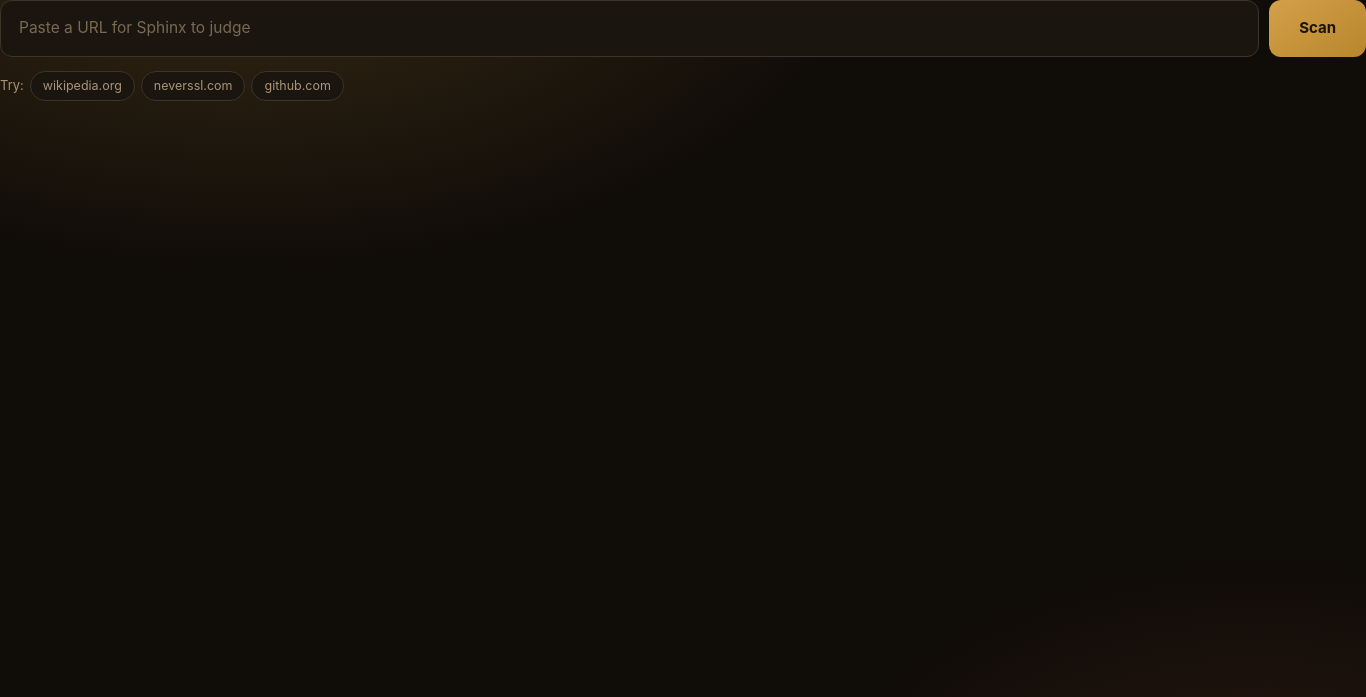
Scanner › keeps the previous result on screen when a later scan fails
Type "https://example.com" into the field named "URL to scan" at (630,28), box top-left (0, 0), bottom-right (1259, 57)
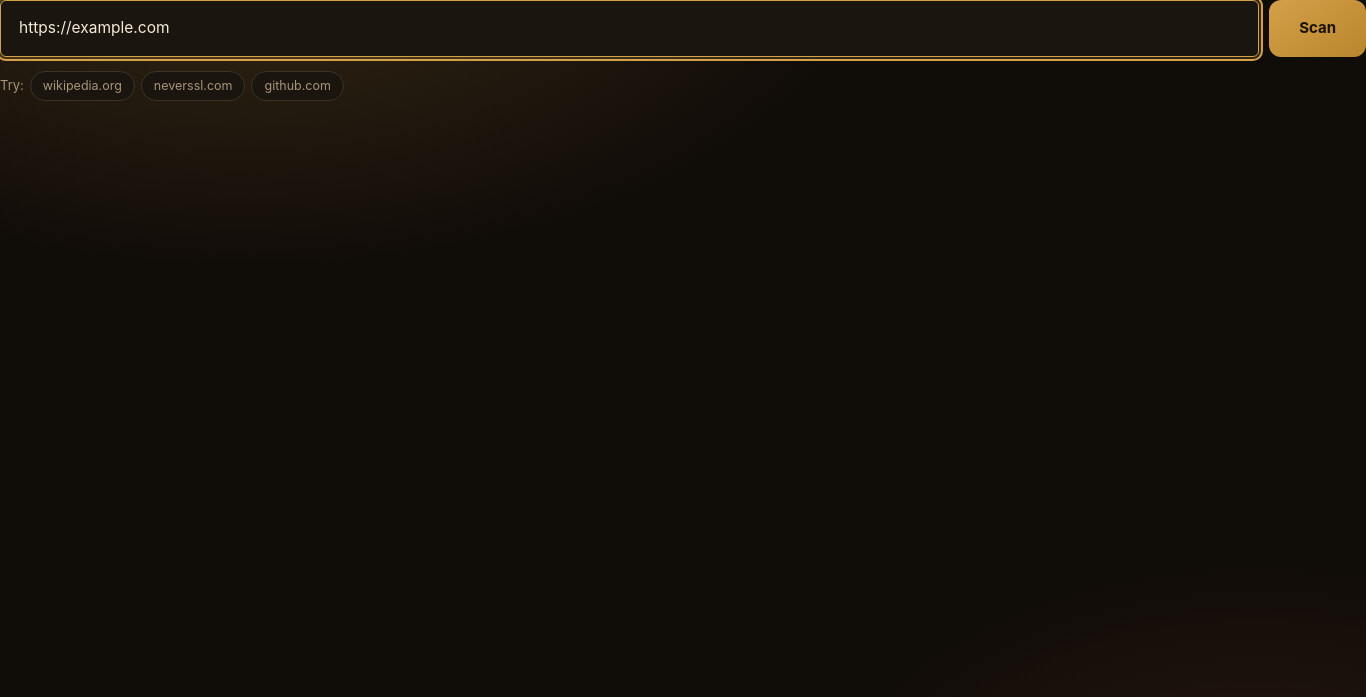
Click the button "Scan" at (1318,28), box top-left (1269, 0), bottom-right (1365, 57)
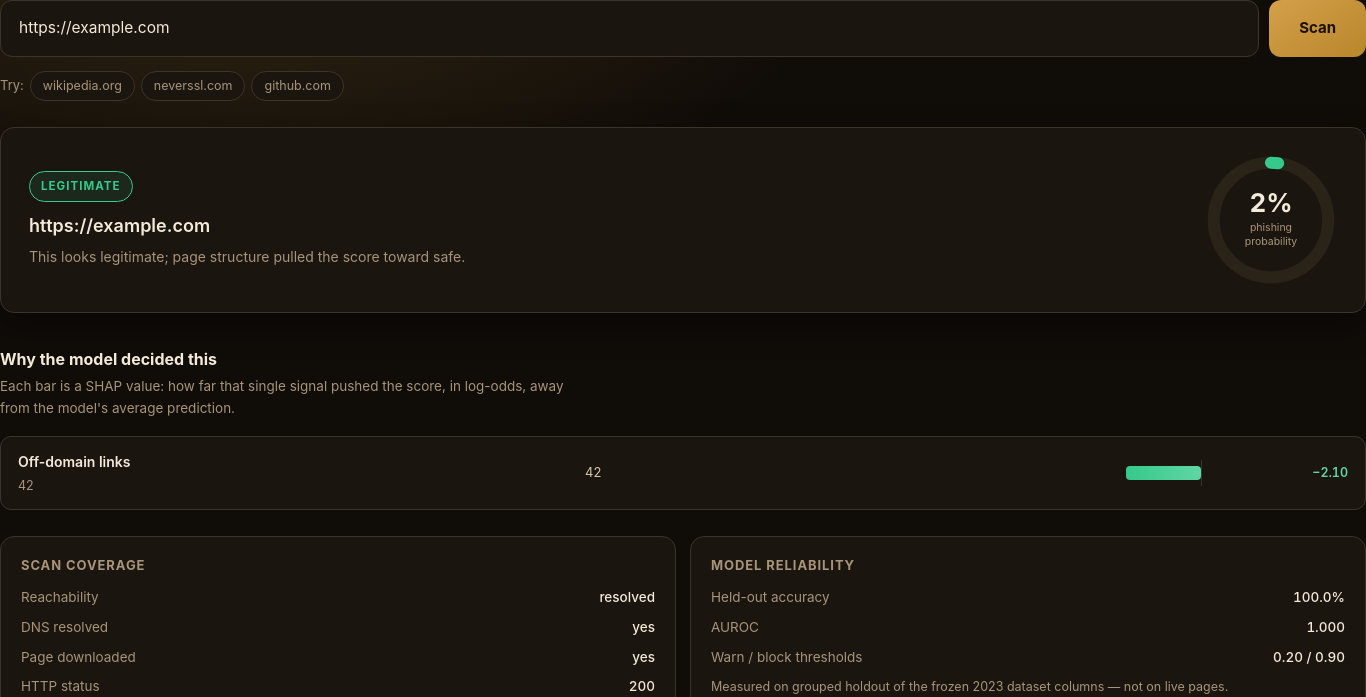
Expected: the text "legitimate" is shown, top-left (29, 171), bottom-right (132, 202)
Replace the text in the field named "URL to scan" with "https://broken.example" at (630,28), box top-left (0, 0), bottom-right (1259, 57)
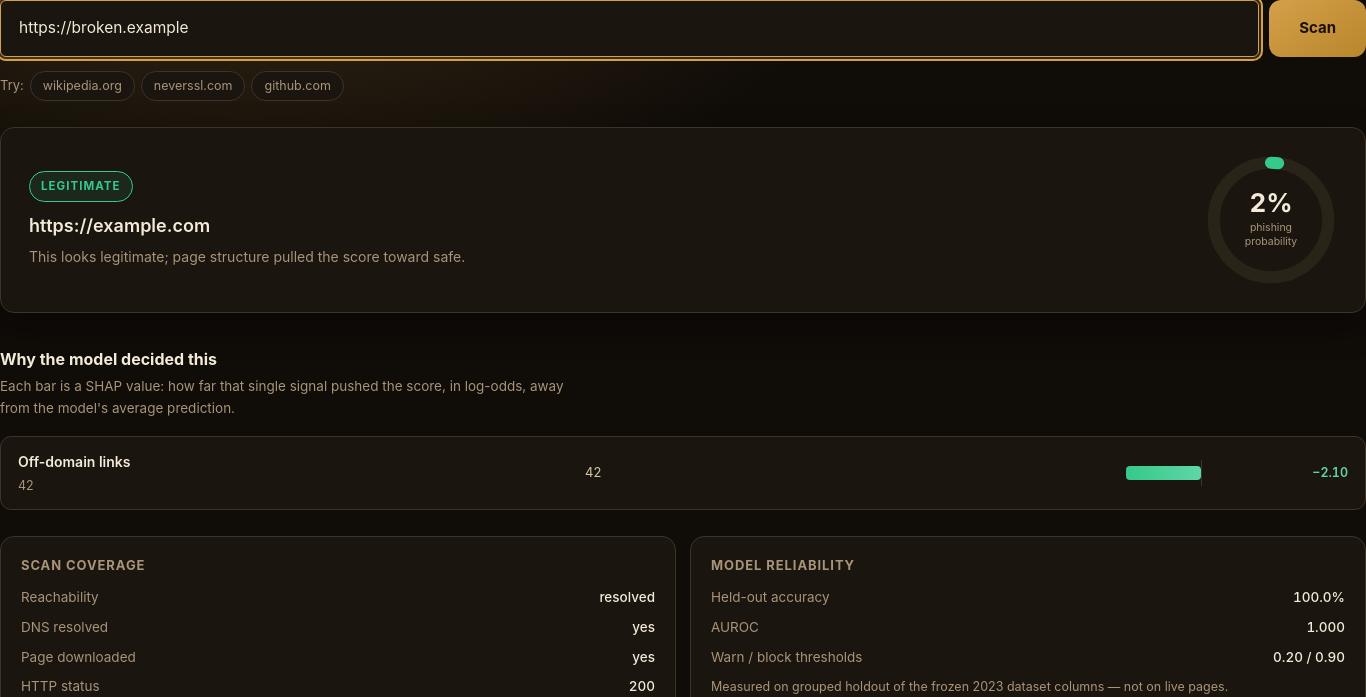
Click the button "Scan" at (1318,28), box top-left (1269, 0), bottom-right (1365, 57)
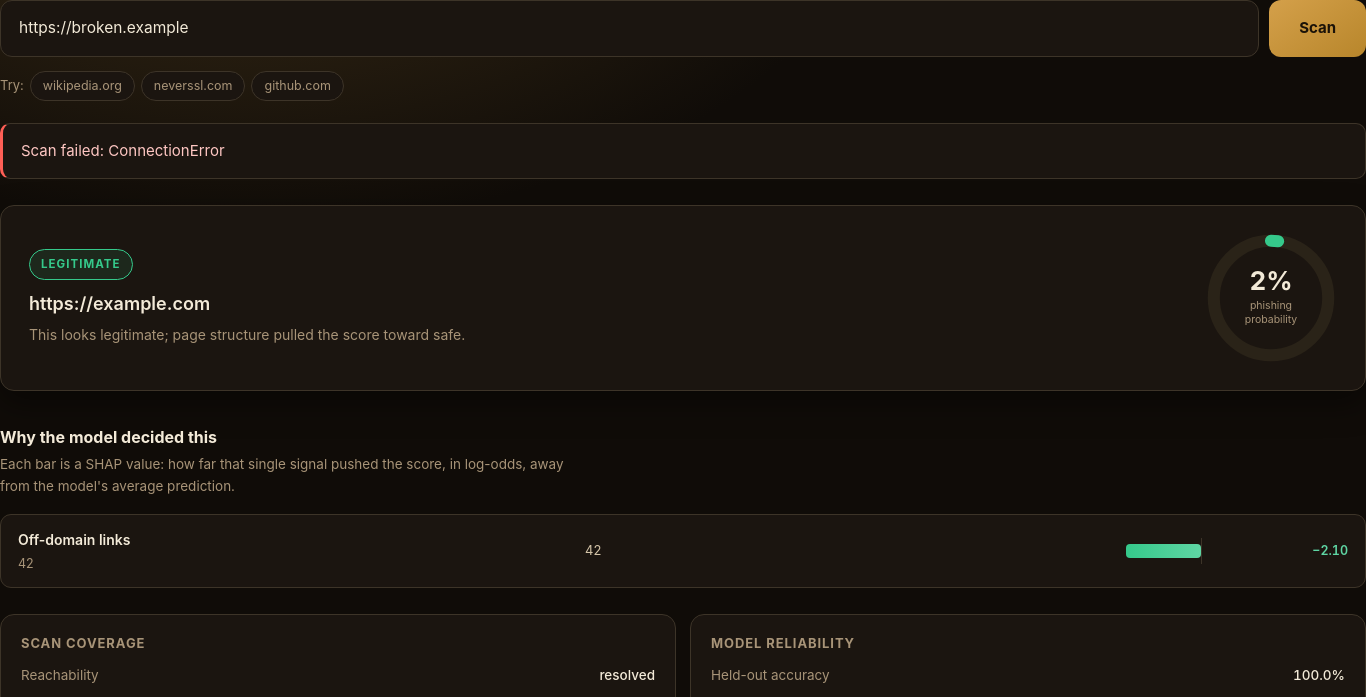
Expected: the text "legitimate" is shown, top-left (29, 249), bottom-right (132, 280)
Expected: the text "Scan failed: ConnectionError" is shown, top-left (0, 123), bottom-right (1365, 179)
